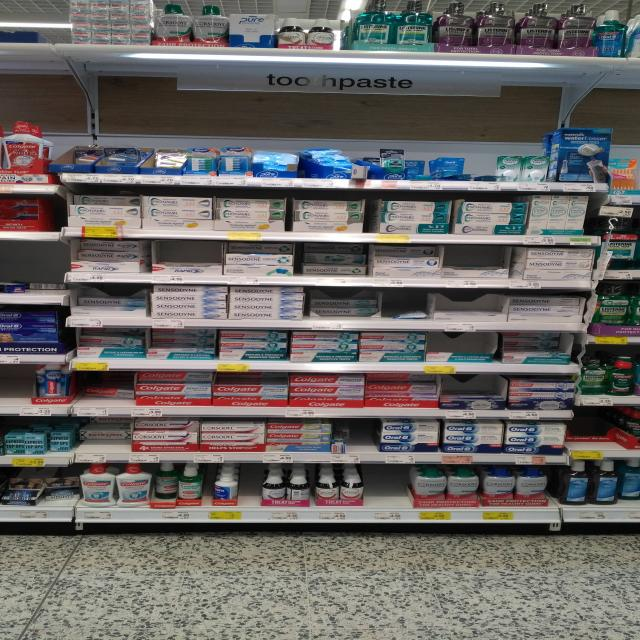unorganised: (508, 295, 587, 318), (77, 237, 144, 262), (313, 292, 375, 315), (153, 326, 210, 350), (305, 244, 366, 265), (435, 300, 503, 318), (78, 332, 147, 349), (503, 332, 562, 351), (83, 382, 134, 403), (153, 460, 180, 499), (43, 477, 82, 501), (16, 277, 70, 291), (79, 295, 145, 306), (390, 306, 432, 322), (328, 427, 349, 455), (113, 149, 144, 166), (157, 149, 186, 166), (73, 147, 99, 164), (349, 162, 367, 183), (1, 281, 22, 293), (445, 175, 475, 180)
